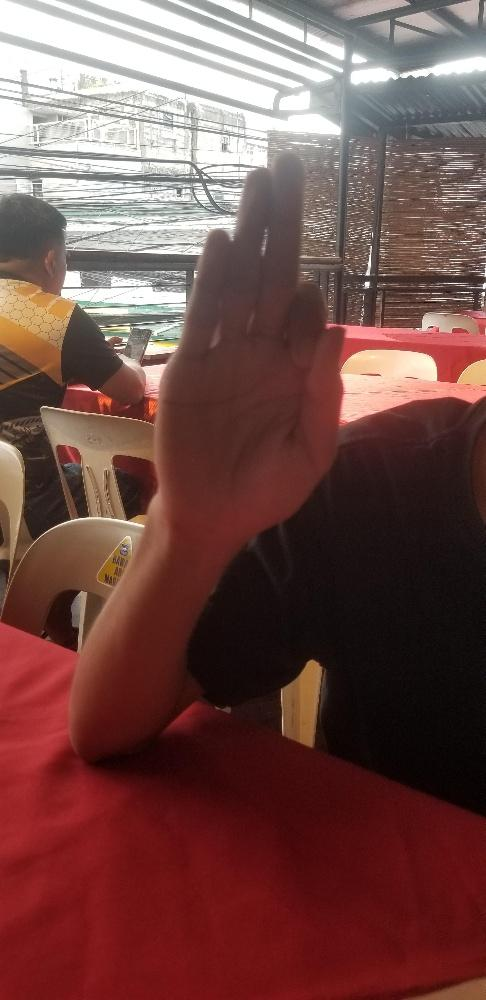f: (151, 144, 348, 543)
